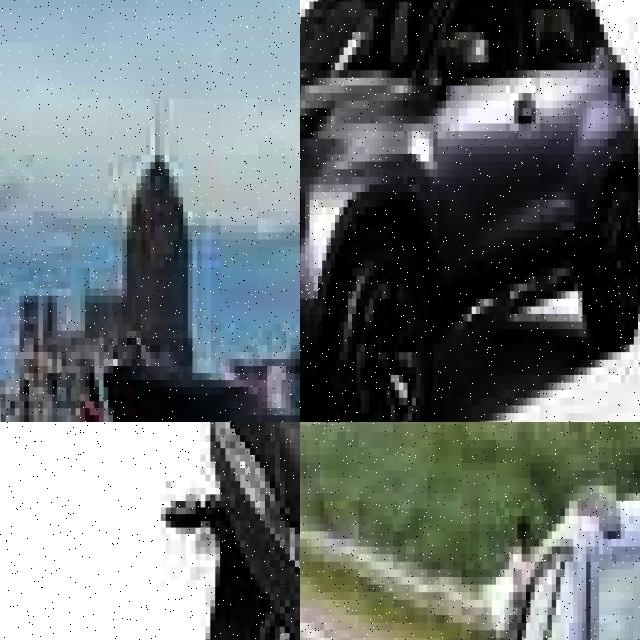bike: (57, 225, 300, 422), (166, 422, 300, 640)
car: (300, 0, 640, 422), (350, 422, 640, 640), (348, 398, 640, 422)
